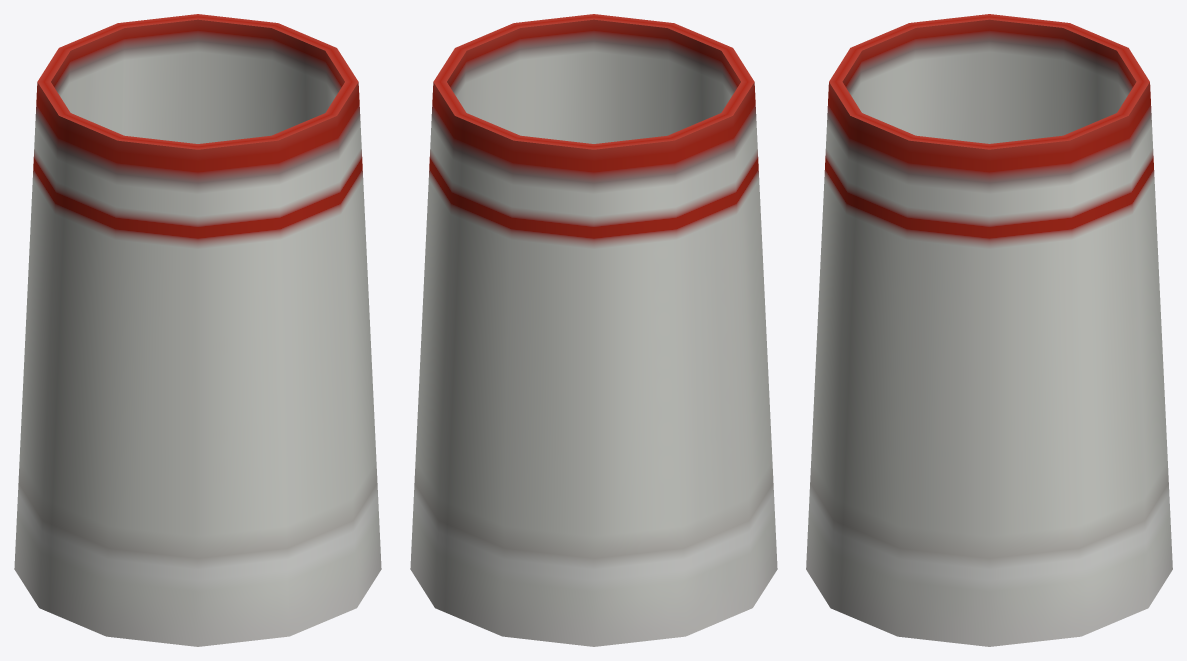
The model's file is KR_Chopstick_stand_01_01.fbx.
3 views of the same model, side by side, from view 1: azimuth 30°, elevation 25°; view 2: azimuth 150°, elevation 25°; view 3: azimuth 270°, elevation 25° (orthographic).
Parts seen in each view (by area): view 1: kr_chopstick_stand_01_01; view 2: kr_chopstick_stand_01_01; view 3: kr_chopstick_stand_01_01.
Part boxes in pixels (x1,y1,x2,y2): kr_chopstick_stand_01_01: [14, 14, 381, 646]; kr_chopstick_stand_01_01: [410, 14, 777, 646]; kr_chopstick_stand_01_01: [806, 14, 1172, 646].
Bounding box in the file's own units: 7.5 × 11 × 7.5.
